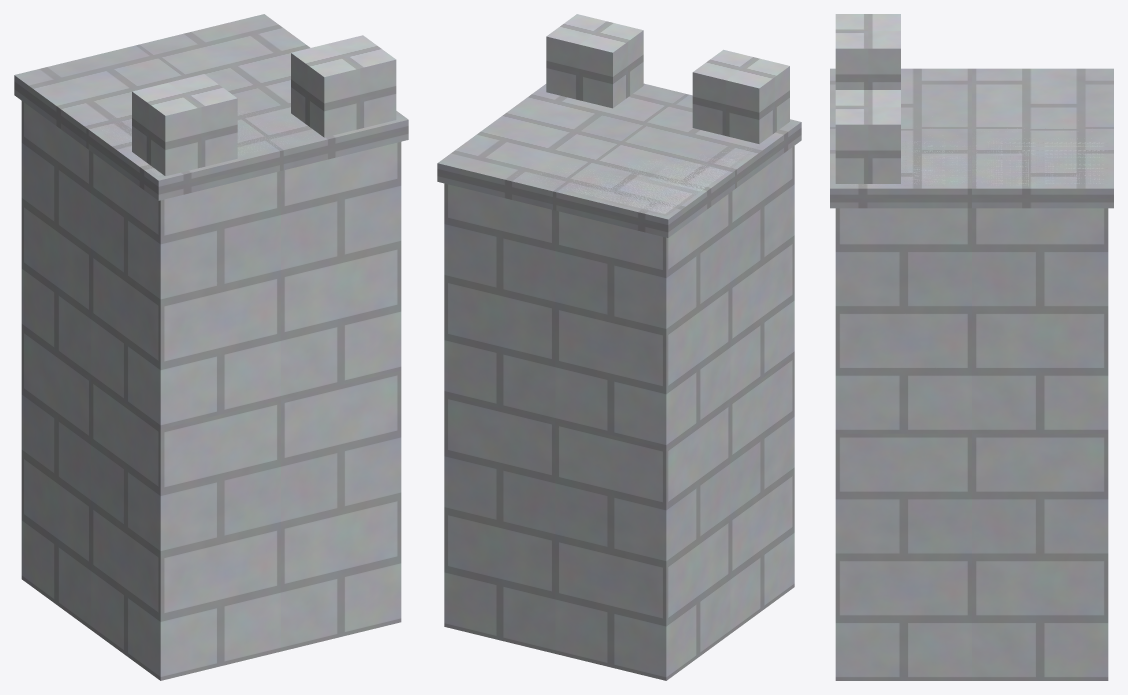
The model's file is wall.glb.
The picture shows the model from 3 angles, left to right: view 1: azimuth 30°, elevation 25°; view 2: azimuth 150°, elevation 25°; view 3: azimuth 270°, elevation 25°; orthographic projection. The views are drawn at different scales.
Parts seen in each view (by area): view 1: wall block, wall course, wall merlon 1, wall merlon 2; view 2: wall block, wall course, wall merlon 2, wall merlon 1; view 3: wall block, wall course, wall merlon 2, wall merlon 1.
Boxes of the visible parts, x1,y1,x2,y2 form: wall block: [21, 101, 401, 680]; wall course: [14, 14, 408, 200]; wall merlon 1: [132, 74, 237, 176]; wall merlon 2: [291, 35, 396, 137]; wall block: [444, 146, 794, 680]; wall course: [437, 83, 801, 237]; wall merlon 2: [546, 14, 643, 108]; wall merlon 1: [692, 49, 789, 143]; wall block: [835, 133, 1108, 680]; wall course: [830, 68, 1113, 208]; wall merlon 2: [835, 90, 900, 183]; wall merlon 1: [835, 14, 900, 89].
Size of the model in its own units: 1.04 by 2.24 by 1.04.
2 materials, 2 textured.
